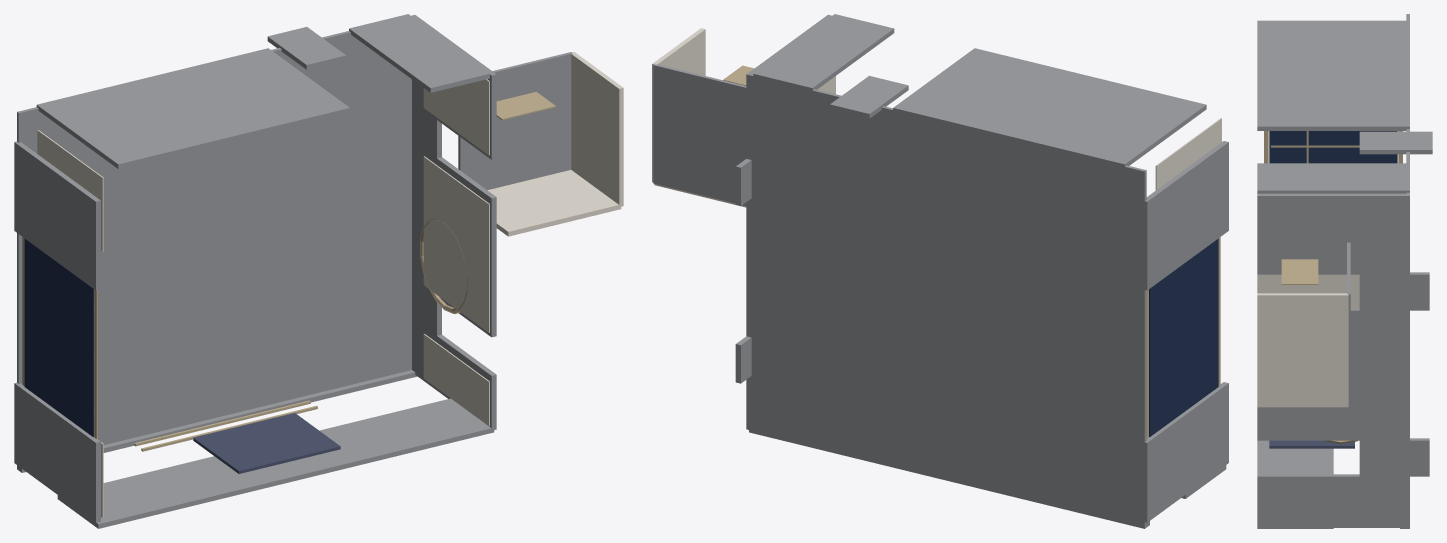
Rendered from space_suite_shell.glb.
3 renders of one model, left to right at view 1: azimuth 30°, elevation 25°; view 2: azimuth 150°, elevation 25°; view 3: azimuth 270°, elevation 25°, orthographic. The views are drawn at different scales.
Visible parts, largest first — view 1: SpaceSuiteShell; view 2: SpaceSuiteShell; view 3: SpaceSuiteShell.
Part boxes in pixels (left/top/right/bottom): SpaceSuiteShell: left=14, top=14, right=623, bottom=528; SpaceSuiteShell: left=652, top=14, right=1228, bottom=528; SpaceSuiteShell: left=1257, top=14, right=1432, bottom=528.
Bounding box in the file's own units: 18.67 × 12.16 × 5.75.
